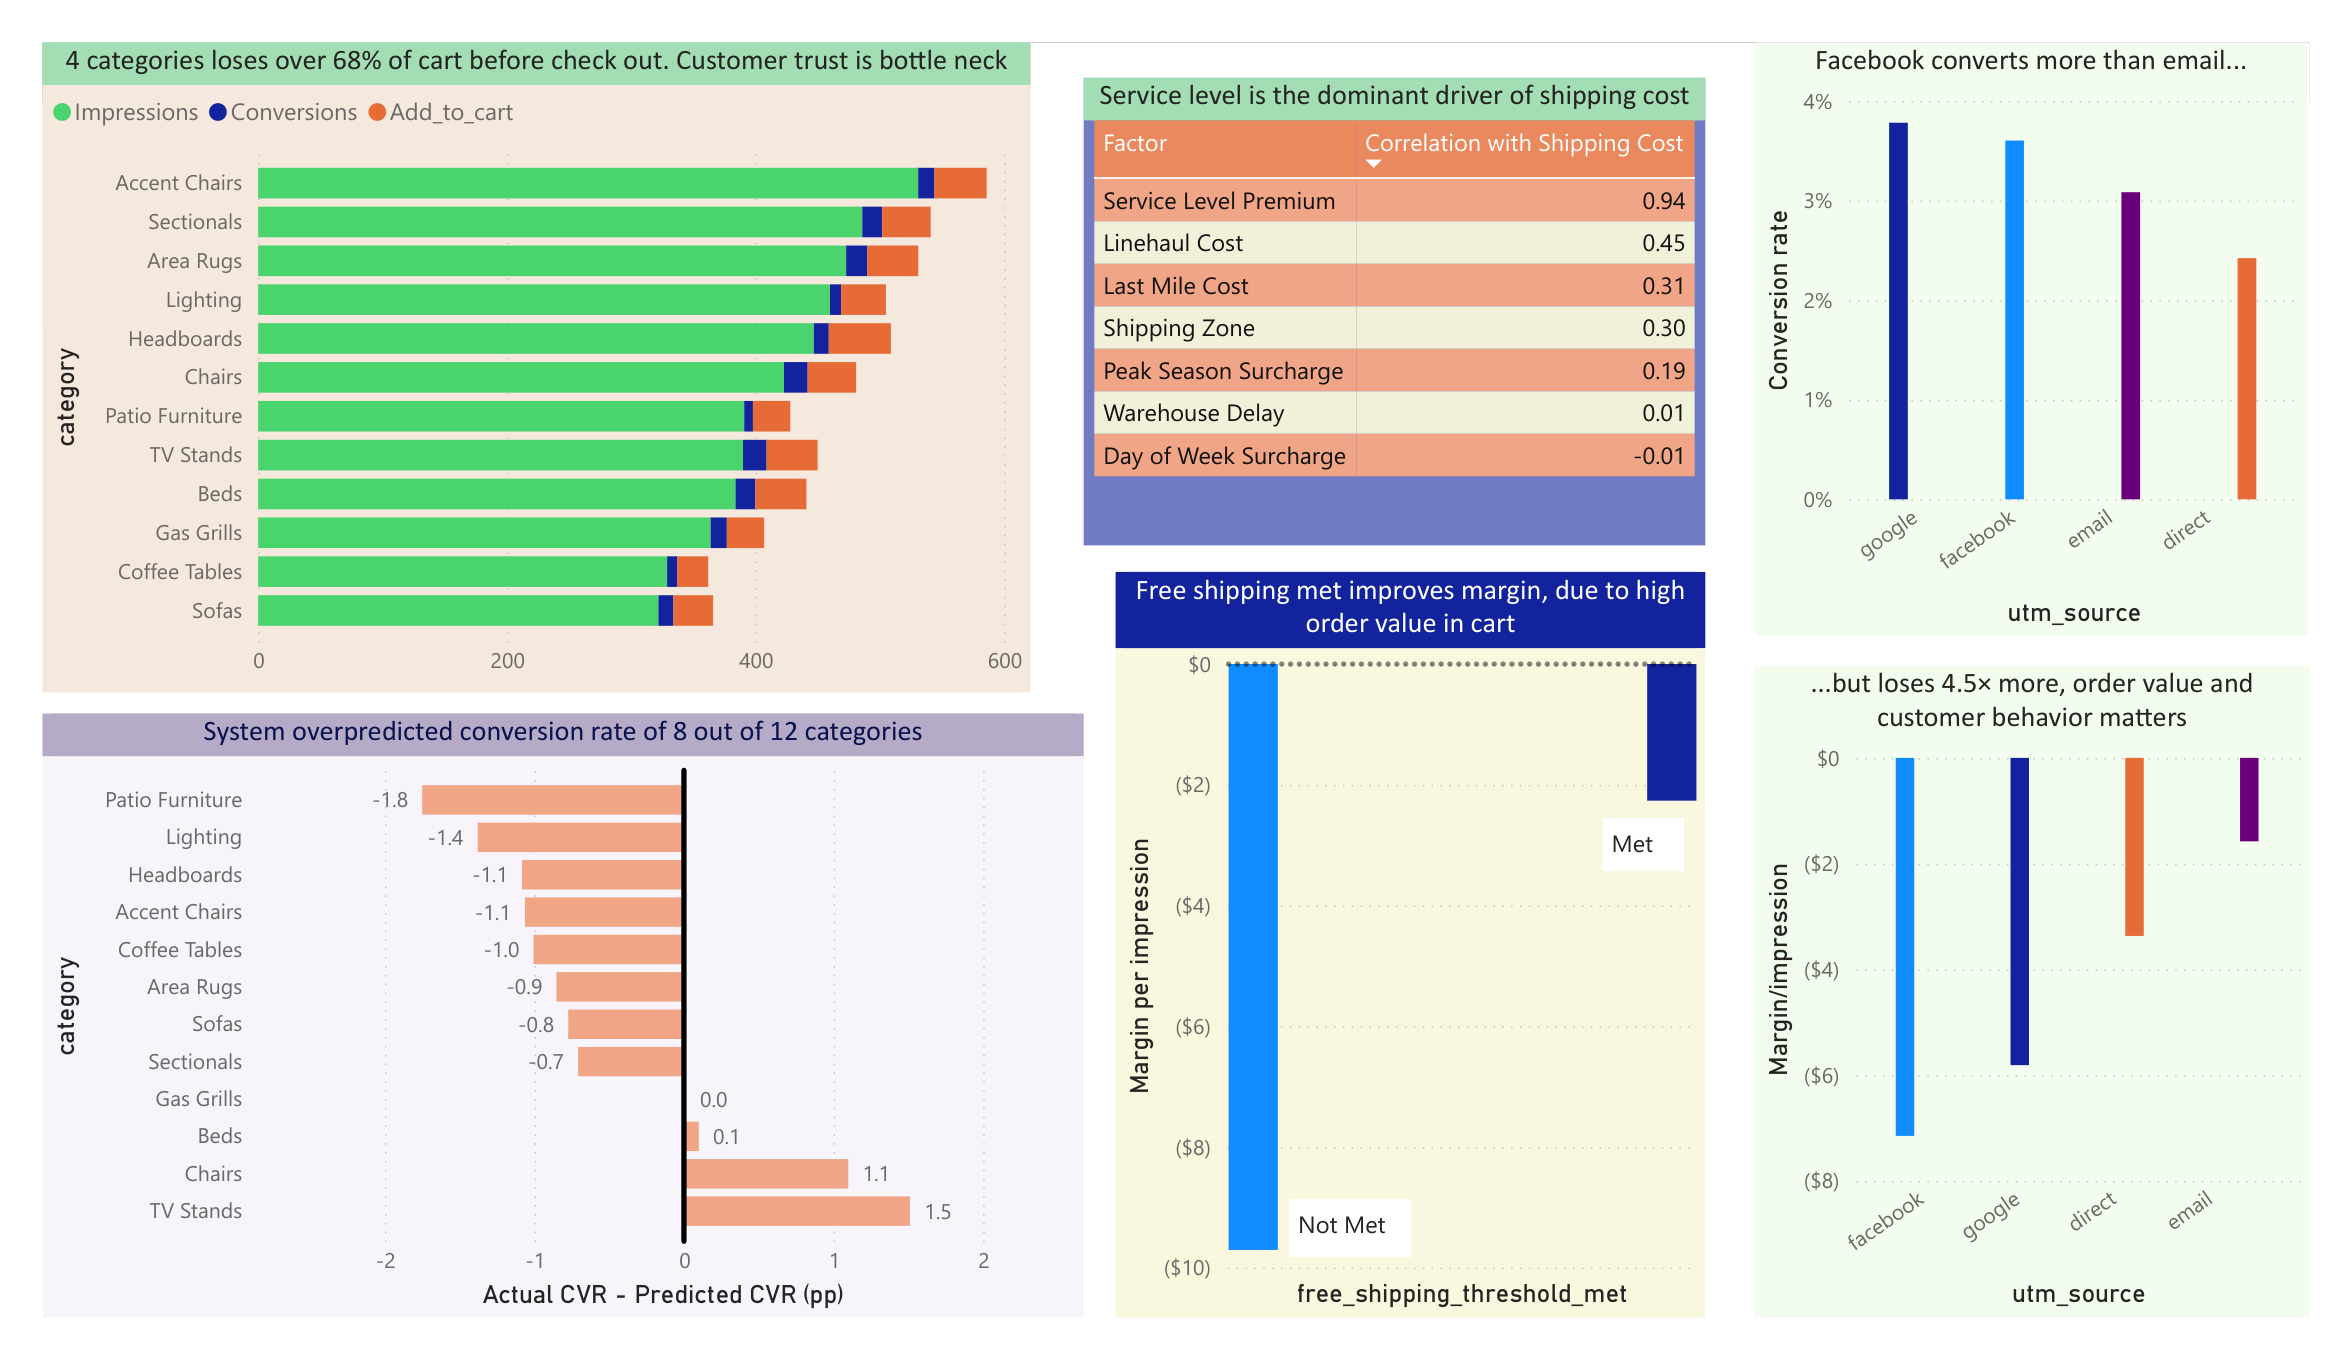

Layout of this report page (visuals, bound fields, positions):
{"tool":"powerbi","page":{"name":"Appendix Visualizations","canvas":[1280,720],"ordinal":1},"visuals":[{"type":"barChart","title":"System overpredicted conversion rate of 8 out of 12 categories","fields":{"Category":["items_small.category"],"Y":["items_small.CVR Gap (pp)"]},"box":[0,379.1,588.3,340.9],"z":0},{"type":"clusteredColumnChart","title":"Free shipping met improves margin, due to high order value in cart","fields":{"Y":["Avg(events_small_clean.margin)"],"Category":["events_small_clean.free_shipping_threshold_met"],"Series":["events_small_clean.free_shipping_threshold_met"]},"box":[605.5,299.1,333.5,420.9],"z":1000},{"type":"clusteredColumnChart","title":"Facebook converts more than email... ","fields":{"Category":["events_small_clean.utm_source"],"Y":["Avg(events_small_clean.cvr)"],"Series":["events_small_clean.utm_source"]},"box":[967.4,0,311.4,334.8],"z":2000},{"type":"clusteredColumnChart","title":"...but loses 4.5× more, order value and customer behavior matters","fields":{"Category":["events_small_clean.utm_source"],"Y":["Avg(events_small_clean.margin)"],"Series":["events_small_clean.utm_source"]},"box":[967.4,352,312.6,368],"z":3000},{"type":"actionButton","box":[0,0,100,40],"z":4000},{"type":"textbox","box":[881.2,438.2,45.5,29.5],"z":5000},{"type":"textbox","box":[704,652.6,68.6,33.1],"z":6000},{"type":"tableEx","title":"Service level is the dominant driver of shipping cost","fields":{"Values":["Book1.Factor","Book1.Correlation with Shipping Cost"]},"box":[588.3,19.7,350.8,264.6],"z":7000},{"type":"barChart","title":"4 categories loses over 68% of cart before check out. Customer trust is bottle neck","fields":{"Category":["items_small.category"],"Y":["CountNonNull(events_small_clean.item_id)","Sum(events_small_clean.cvr)","Sum(events_small_clean.add_to_cart)"]},"box":[0,0,558.2,367.4],"z":8000}]}

Visuals, with their boxes in screenshot pixels (x1, y1, x2, y2), scaled from the page's 1280x720 canvas onto the 2352x1360 screenshot:
"System overpredicted conversion rate of 8 out of 12 categories" barChart: x1=0 y1=716 x2=1081 y2=1359
"Free shipping met improves margin, due to high order value in cart" clusteredColumnChart: x1=1113 y1=565 x2=1725 y2=1359
"Facebook converts more than email... " clusteredColumnChart: x1=1778 y1=0 x2=2350 y2=632
"...but loses 4.5× more, order value and customer behavior matters" clusteredColumnChart: x1=1778 y1=665 x2=2351 y2=1359
actionButton: x1=0 y1=0 x2=184 y2=76
textbox: x1=1619 y1=828 x2=1703 y2=883
textbox: x1=1294 y1=1233 x2=1420 y2=1295
"Service level is the dominant driver of shipping cost" tableEx: x1=1081 y1=37 x2=1726 y2=537
"4 categories loses over 68% of cart before check out. Customer trust is bottle neck" barChart: x1=0 y1=0 x2=1026 y2=694
